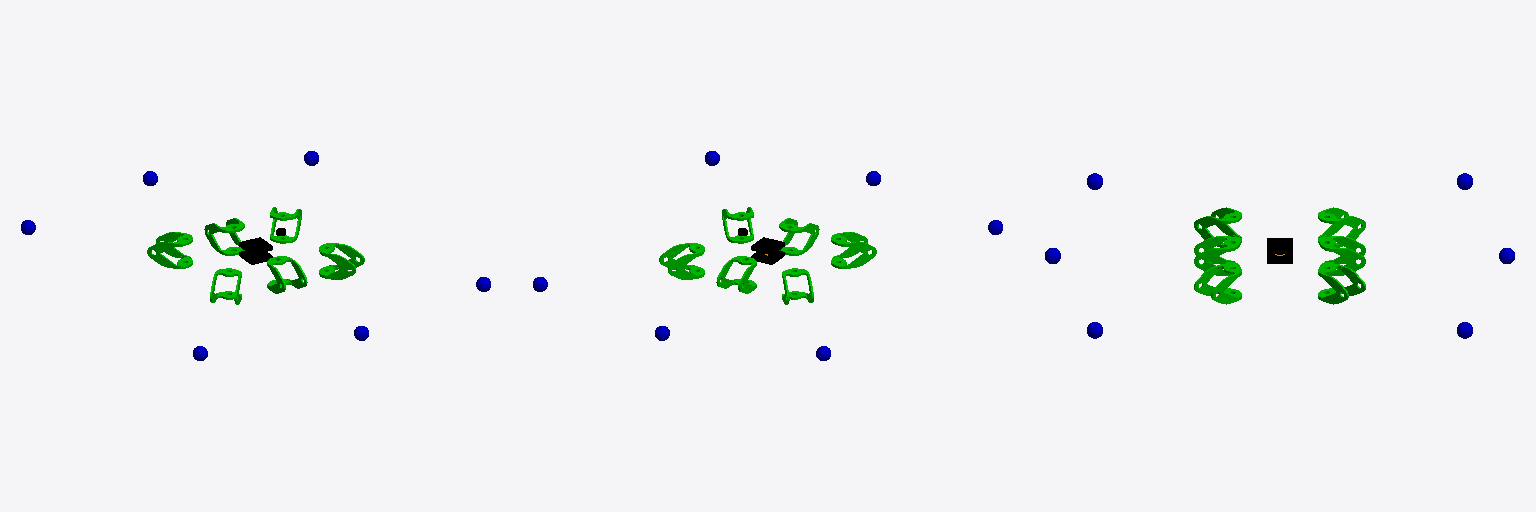
--- What the picture shows (computed from the rendered views, not written in the file) ---
The picture shows the robot from 3 angles, left to right: view 1: azimuth 30°, elevation 25°; view 2: azimuth 150°, elevation 25°; view 3: azimuth 270°, elevation 25°; orthographic projection.
Model corin with 29 links and 28 joints (18 revolute, 10 fixed), rooted at base_link, posed every joint at zero.
Visible links, largest first — view 1: lr_hipassembly, rf_hipassembly, rm_hipassembly, lm_hipassembly, rr_hipassembly, lf_hipassembly; view 2: lf_hipassembly, rr_hipassembly, lm_hipassembly, rm_hipassembly, lr_hipassembly, rf_hipassembly; view 3: lf_hipassembly, rf_hipassembly, lm_hipassembly, rm_hipassembly, lr_hipassembly, rr_hipassembly.
Boxes of the visible links, box(x1,y1,x2,y2) form: lr_hipassembly: box(147, 232, 192, 268); rf_hipassembly: box(319, 243, 364, 279); rm_hipassembly: box(267, 256, 307, 293); lm_hipassembly: box(204, 218, 244, 255); rr_hipassembly: box(210, 268, 241, 304); lf_hipassembly: box(270, 207, 301, 243); lf_hipassembly: box(659, 243, 704, 279); rr_hipassembly: box(831, 232, 876, 268); lm_hipassembly: box(716, 256, 756, 293); rm_hipassembly: box(779, 218, 819, 255); lr_hipassembly: box(782, 268, 813, 304); rf_hipassembly: box(722, 207, 753, 243); lf_hipassembly: box(1318, 263, 1365, 304); rf_hipassembly: box(1194, 263, 1241, 304); lm_hipassembly: box(1320, 236, 1365, 275); rm_hipassembly: box(1194, 236, 1239, 275); lr_hipassembly: box(1318, 207, 1365, 247); rr_hipassembly: box(1194, 207, 1241, 247).
Bounding box of the posed robot: 0.7041 × 0.9 × 0.0735 m (x, y, z).
6 mesh visuals loaded from 4 distinct referenced files (1 binary STL); not drawn: 13 (reference not matched to a file when rendering).

robot.urdf — corin:
<?xml version="1.0" ?>
<!-- =================================================================================== -->
<!-- |    This document was autogenerated by xacro from mCorin_model.urdf.xacro        | -->
<!-- |    EDITING THIS FILE BY HAND IS NOT RECOMMENDED                                 | -->
<!-- =================================================================================== -->
<robot name="corin" xmlns:xacro="http://www.ros.org/wiki/xacro">
  <!-- 160.5 -->
  <!-- Rectangular box: m*(a^2 + b^2)/12 -->
  <material name="black">
    <color rgba="0.0 0.0 0.0 1.0"/>
  </material>
  <material name="blue">
    <color rgba="0.0 0.0 0.8 1.0"/>
  </material>
  <material name="brown">
    <color rgba="0.870588235294 0.811764705882 0.764705882353 1.0"/>
  </material>
  <material name="colli">
    <color rgba="1.0 0.423529411765 0.0392156862745 0.7"/>
  </material>
  <material name="green">
    <color rgba="0.0 0.8 0.0 1.0"/>
  </material>
  <material name="grey">
    <color rgba="0.2 0.2 0.2 1.0"/>
  </material>
  <material name="grey1">
    <color rgba="0.878431372549 0.878431372549 0.878431372549 1.0"/>
  </material>
  <material name="orange">
    <color rgba="1.0 0.423529411765 0.0392156862745 1.0"/>
  </material>
  <material name="red">
    <color rgba="0.8 0.0 0.0 1.0"/>
  </material>
  <material name="transparent">
    <color rgba="0 0 0 0"/>
  </material>
  <material name="turquoise">
    <color rgba="0 0.807843137255 0.819607843137 1.0"/>
  </material>
  <material name="white">
    <color rgba="1.0 1.0 1.0 1.0"/>
  </material>
  <material name="yellow">
    <color rgba="1 1 0 1"/>
  </material>
  <!-- ================================ Trunk ================================ -->
  <!-- #############  Laser Sensor  ############# -->
  <!-- Noise parameters based on published spec for Hokuyo laser achieving "+-30mm" accuracy at range < 10m. -->
  <!-- A mean of 0.0m and stddev of 0.01m will put 99.7% of samples within 0.03m of the true reading. -->
  <gazebo>
    <plugin filename="libgazebo_ros_control.so" name="gazebo_ros_control">
      <robotNamespace>/corin</robotNamespace>
    </plugin>
    <plugin filename="libgazebo_ros_p3d.so" name="gazebo_ros_p3d">
      <robotNamespace>/corin</robotNamespace>
      <bodyName>trunk</bodyName>
      <topicName>ground_truth</topicName>
      <frameName>world</frameName>
      <xyzOffsets>0 0 0</xyzOffsets>
      <rpyOffsets>0 0 0</rpyOffsets>
      <gaussianNoise>0</gaussianNoise>
      <alwaysOn>true</alwaysOn>
      <updateRate>250.0</updateRate>
    </plugin>
  </gazebo>
  <!-- Now we can start using the macros included above to define the mcorin -->
  <!-- The first use of a macro. This one was defined in trunk.urdf.xacro above.
A macro like this will expand to a set of link and joint definitions, and to additional
Gazebo-related extensions (sensor plugins, etc). The macro takes an argument, name,
that equals "base", and uses it to generate names for its component links and joints
(e.g., base_link). The included origin block is also an argument to the macro. By convention,
the origin block defines where the component is w.r.t its parent (in this case the parent
is the world frame). For more, see http://www.ros.org/wiki/xacro -->
  <!-- Floating-base Joint -->
  <joint name="floating_base" type="fixed">
    <axis xyz="0 0 1"/>
    <!-- origin remains zero as body_dummy same dimensions as body -->
    <origin rpy="0 0 0" xyz="0.0 0.0 0.0"/>
    <parent link="base_link"/>
    <child link="trunk"/>
  </joint>
  <!-- Floating Link  -->
  <link name="base_link">
    <visual>
      <geometry>
        <cylinder length="0.01" radius="0.01"/>
      </geometry>
    </visual>
  </link>
  <!-- Trunk link -->
  <link name="trunk">
    <inertial>
      <origin xyz="0.0 0.0 0.0"/>
      <mass value="1.58"/>
      <inertia ixx="0.00491116666667" ixy="0.0" ixz="0.0" iyy="0.00761033333333" iyz="0.0" izz="0.0112311666667"/>
    </inertial>
    <visual>
      <geometry>
        <mesh filename="package://mcorin_description/meshes/Body.STL" scale="1 1 1"/>
        <!-- <box size= "${trunk_x} ${trunk_y} ${trunk_z}"/> -->
      </geometry>
      <material name="orange"/>
    </visual>
    <collision>
      <geometry>
        <mesh filename="package://mcorin_description/meshes/Body_collision.STL" scale="1 1 1"/>
        <!-- <box size= "${trunk_x-0.02} ${3.8/5*trunk_y} ${trunk_z}"/> -->
      </geometry>
      <material name="colli"/>
    </collision>
  </link>
  <gazebo reference="trunk">
    <mu1>1.5</mu1>
    <mu2>1.5</mu2>
    <material>Gazebo/DarkGrey</material>
  </gazebo>
  <!-- Joints -->
  <!-- Coxa joint -->
  <joint name="lf_q1_joint" type="revolute">
    <origin rpy="0 0 0.872664625997" xyz="0.115 0.09 0"/>
    <parent link="trunk"/>
    <child link="lf_hipassembly"/>
    <axis xyz="0 0 1"/>
    <!-- overwrite joint limits for middle legs-->
    <limit effort="2.85" lower="-1.0" upper="1.0" velocity="5.23"/>
    <dynamics damping="0.15" friction="0"/>
    <!-- <safety_controller k_position="100" k_velocity="100"
							   soft_lower_limit="${-7*PI/18}" soft_upper_limit="${5*PI/36}" /> -->
  </joint>
  <!-- Upper leg joint -->
  <joint name="lf_q2_joint" type="revolute">
    <origin rpy="1.57079632679 0 0" xyz="0.06 0 0"/>
    <parent link="lf_hipassembly"/>
    <child link="lf_upperleg"/>
    <axis xyz="0 0 1"/>
    <limit effort="2.85" lower="-2.22" upper="2.22" velocity="5.23"/>
    <dynamics damping="0.15" friction="0"/>
    <!-- <safety_controller k_position="100" k_velocity="100"
							   soft_lower_limit="${-(1+reflect_front)*5*PI/36-(1-reflect_front)*7*PI/36}"
							   soft_upper_limit="${(1-reflect_front)*5*PI/36+(1+reflect_front)*7*PI/36}" /> -->
  </joint>
  <!-- Lower leg joint -->
  <joint name="lf_q3_joint" type="revolute">
    <origin rpy="0 0 0" xyz="0.15 0 0"/>
    <parent link="lf_upperleg"/>
    <child link="lf_lowerleg"/>
    <axis xyz="0 0 1"/>
    <limit effort="2.85" lower="-2.79" upper="2.79" velocity="5.23"/>
    <dynamics damping="0.15" friction="0"/>
    <!-- <safety_controller k_position="100" k_velocity="100"
							   soft_lower_limit="${-(1+reflect_front)*7*PI/18+(1-reflect_front)*PI/18}"
							   soft_upper_limit="${(1-reflect_front)*7*PI/18-(1+reflect_front)*PI/18}" /> -->
  </joint>
  <!-- Foot joint -->
  <joint name="lf_foot_joint" type="fixed">
    <origin rpy="0 0 0" xyz="0.134 0 0"/>
    <parent link="lf_lowerleg"/>
    <child link="lf_foot"/>
  </joint>
  <!-- Links -->
  <!-- Hip assembly link -->
  <link name="lf_hipassembly">
    <visual>
      <origin rpy="0 0 0" xyz="0 0 0"/>
      <geometry>
        <mesh filename="package://mcorin_description/meshes/Coxa.STL" scale="1 1 1"/>
      </geometry>
      <material name="green"/>
    </visual>
    <collision>
      <origin rpy="0 0 0" xyz="0 0 0"/>
      <geometry>
        <mesh filename="package://mcorin_description/meshes/Coxa_collision.STL" scale="1 1 1"/>
      </geometry>
      <material name="orange"/>
    </collision>
    <inertial>
      <origin xyz="0.02471 0 0"/>
      <mass value="0.0406"/>
      <inertia ixx="3.8e-05" ixy="0.0" ixz="0.0" iyy="3.8e-05" iyz="0.0" izz="4e-05"/>
    </inertial>
  </link>
  <!-- Upper leg link -->
  <link name="lf_upperleg">
    <visual>
      <geometry>
        <mesh filename="package://mcorin_description/meshes/Femur.STL" scale="1 1 1"/>
      </geometry>
      <origin rpy="0 0 0" xyz="0 0 0"/>
      <material name="blue"/>
    </visual>
    <collision>
      <geometry>
        <box size="0.15 0.04 0.04"/>
      </geometry>
      <origin rpy="0 0 0" xyz="0.075 0 0"/>
      <material name="colli"/>
    </collision>
    <inertial>
      <mass value="0.35"/>
      <inertia ixx="1.4e-05" ixy="0" ixz="0" iyy="4.7e-05" iyz="0" izz="5.1e-05"/>
      <origin xyz="0.075 0 0"/>
    </inertial>
  </link>
  <!-- Lower leg link -->
  <link name="lf_lowerleg">
    <visual>
      <geometry>
        <mesh filename="package://mcorin_description/meshes/Tibia.STL" scale="1 1 1"/>
      </geometry>
      <origin rpy="1.57079632679 0 0" xyz="0 0 0"/>
      <material name="yellow"/>
    </visual>
    <collision>
      <geometry>
        <mesh filename="package://mcorin_description/meshes/Tibia_collision.STL" scale="1 1 1"/>
        <!-- <box size= "${tibia_cl} ${tibia_d} ${tibia_w}"/> -->
      </geometry>
      <origin rpy="1.57079632679 0 0" xyz="0.0 0 0"/>
      <material name="colli"/>
    </collision>
    <inertial>
      <mass value="0.076"/>
      <inertia ixx="2.5e-05" ixy="0" ixz="0" iyy="0.000105" iyz="0" izz="0.000117"/>
      <origin xyz="0.0887 0 0"/>
    </inertial>
  </link>
  <!-- Foot link -->
  <link name="lf_foot">
    <visual>
      <geometry>
        <sphere radius="0.016"/>
      </geometry>
      <origin rpy="0 0 0" xyz="0 0 0"/>
      <material name="blue"/>
    </visual>
    <collision>
      <geometry>
        <sphere radius="0.016"/>
      </geometry>
      <origin rpy="0 0 0" xyz="0 0 0"/>
      <material name="colli"/>
    </collision>
    <inertial>
      <mass value="0.04"/>
      <inertia ixx="4e-06" ixy="0" ixz="0" iyy="4e-06" iyz="0" izz="4e-06"/>
      <origin xyz="0 0 0"/>
    </inertial>
  </link>
  <!-- Hip assembly -->
  <transmission name="lf_q1_trans">
    <type>transmission_interface/SimpleTransmission</type>
    <joint name="lf_q1_joint">
      <hardwareInterface>EffortJointInterface</hardwareInterface>
    </joint>
    <actuator name="lf_q1_motor">
      <hardwareInterface>EffortJointInterface</hardwareInterface>
      <mechanicalReduction>200</mechanicalReduction>
    </actuator>
  </transmission>
  <!-- Upper leg -->
  <transmission name="lf_q2_trans">
    <type>transmission_interface/SimpleTransmission</type>
    <joint name="lf_q2_joint">
      <hardwareInterface>EffortJointInterface</hardwareInterface>
    </joint>
    <actuator name="lf_q2_motor">
      <hardwareInterface>EffortJointInterface</hardwareInterface>
      <mechanicalReduction>200</mechanicalReduction>
    </actuator>
  </transmission>
  <!-- Lower leg -->
  <transmission name="lf_q3_trans">
    <type>transmission_interface/SimpleTransmission</type>
    <joint name="lf_q3_joint">
      <hardwareInterface>EffortJointInterface</hardwareInterface>
    </joint>
    <actuator name="lf_q3_motor">
      <hardwareInterface>EffortJointInterface</hardwareInterface>
      <mechanicalReduction>200</mechanicalReduction>
    </actuator>
  </transmission>
  <gazebo reference="lf_q1_joint">
    <provideFeedback>true</provideFeedback>
  </gazebo>
  <gazebo>
    <plugin filename="libgazebo_ros_ft_sensor.so" name="lf_q1_sensor">
      <robotNamespace>/corin/internal_wrench/</robotNamespace>
      <updateRate>100.0</updateRate>
      <topicName>lf_q1_joint</topicName>
      <jointName>lf_q1_joint</jointName>
    </plugin>
  </gazebo>
  <gazebo reference="lf_q2_joint">
    <provideFeedback>true</provideFeedback>
  </gazebo>
  <gazebo>
    <plugin filename="libgazebo_ros_ft_sensor.so" name="lf_q2_sensor">
      <robotNamespace>/corin/internal_wrench/</robotNamespace>
      <updateRate>100.0</updateRate>
      <topicName>lf_q2_joint</topicName>
      <jointName>lf_q2_joint</jointName>
    </plugin>
  </gazebo>
  <gazebo reference="lf_q3_joint">
    <provideFeedback>true</provideFeedback>
  </gazebo>
  <gazebo>
    <plugin filename="libgazebo_ros_ft_sensor.so" name="lf_q3_sensor">
      <robotNamespace>/corin/internal_wrench/</robotNamespace>
      <updateRate>100.0</updateRate>
      <topicName>lf_q3_joint</topicName>
      <jointName>lf_q3_joint</jointName>
    </plugin>
  </gazebo>
  <gazebo reference="lf_hipassembly">
    <kp>1000000.0</kp>
    <kd>100.0</kd>
    <mu1>1.5</mu1>
    <mu2>1.5</mu2>
    <!-- <fdir1>1 0 0</fdir1> -->
    <maxVel>0.001</maxVel>
    <minDepth>0.00</minDepth>
    <material>Gazebo/White</material>
  </gazebo>
  <gazebo reference="lf_upperleg">
    <kp>1000000.0</kp>
    <kd>100.0</kd>
    <mu1>1.5</mu1>
    <mu2>1.5</mu2>
    <!-- <fdir1>1 0 0</fdir1> -->
    <maxVel>0.001</maxVel>
    <minDepth>0.00</minDepth>
    <material>Gazebo/DarkGrey</material>
  </gazebo>
  <gazebo reference="lf_lowerleg">
    <kp>1000000.0</kp>
    <kd>100.0</kd>
    <mu1>1.5</mu1>
    <mu2>1.5</mu2>
    <!-- <fdir1>1 0 0</fdir1> -->
    <maxVel>0.001</maxVel>
    <minDepth>0.00</minDepth>
    <material>Gazebo/White</material>
  </gazebo>
  <gazebo reference="lf_foot">
    <kp>1000000.0</kp>
    <kd>100.0</kd>
    <mu1>1.5</mu1>
    <mu2>1.5</mu2>
    <!-- <fdir1>1 0 0</fdir1> -->
    <maxVel>0.001</maxVel>
    <minDepth>0.00</minDepth>
    <material>Gazebo/Black</material>
  </gazebo>
  <gazebo reference="lf_foot">
    <!-- contact sensor -->
    <sensor name="foot_contact" type="contact">
      <update_rate>100.0</update_rate>
      <always_on>1</always_on>
      <contact>
        <collision>lf_lowerleg_fixed_joint_lump__lf_foot_collision_1</collision>
        <topic>/lf_foot_contact</topic>
      </contact>
      <plugin filename="libgazebo_ros_bumper.so" name="fixed_jaw_bumper">
        <bumperTopicName>/corin/foot_wrench/lf</bumperTopicName>
        <frameName>lf_foot</frameName>
      </plugin>
    </sensor>
  </gazebo>
  <!-- Joints -->
  <!-- Coxa joint -->
  <joint name="lm_q1_joint" type="revolute">
    <origin rpy="0 0 1.57079632679" xyz="0 0.09 0"/>
    <parent link="trunk"/>
    <child link="lm_hipassembly"/>
    <axis xyz="0 0 1"/>
    <!-- overwrite joint limits for middle legs-->
    <limit effort="2.85" lower="-0.84" upper="0.84" velocity="5.23"/>
    <dynamics damping="0.15" friction="0"/>
    <!-- <safety_controller k_position="100" k_velocity="100"
							   soft_lower_limit="${-7*PI/18}" soft_upper_limit="${5*PI/36}" /> -->
  </joint>
  <!-- Upper leg joint -->
  <joint name="lm_q2_joint" type="revolute">
    <origin rpy="1.57079632679 0 0" xyz="0.06 0 0"/>
    <parent link="lm_hipassembly"/>
    <child link="lm_upperleg"/>
    <axis xyz="0 0 1"/>
    <limit effort="2.85" lower="-2.22" upper="2.22" velocity="5.23"/>
    <dynamics damping="0.15" friction="0"/>
    <!-- <safety_controller k_position="100" k_velocity="100"
							   soft_lower_limit="${-(1+reflect_front)*5*PI/36-(1-reflect_front)*7*PI/36}"
							   soft_upper_limit="${(1-reflect_front)*5*PI/36+(1+reflect_front)*7*PI/36}" /> -->
  </joint>
  <!-- Lower leg joint -->
  <joint name="lm_q3_joint" type="revolute">
    <origin rpy="0 0 0" xyz="0.15 0 0"/>
    <parent link="lm_upperleg"/>
    <child link="lm_lowerleg"/>
    <axis xyz="0 0 1"/>
    <limit effort="2.85" lower="-2.79" upper="2.79" velocity="5.23"/>
    <dynamics damping="0.15" friction="0"/>
    <!-- <safety_controller k_position="100" k_velocity="100"
							   soft_lower_limit="${-(1+reflect_front)*7*PI/18+(1-reflect_front)*PI/18}"
							   soft_upper_limit="${(1-reflect_front)*7*PI/18-(1+reflect_front)*PI/18}" /> -->
  </joint>
  <!-- Foot joint -->
  <joint name="lm_foot_joint" type="fixed">
    <origin rpy="0 0 0" xyz="0.134 0 0"/>
    <parent link="lm_lowerleg"/>
    <child link="lm_foot"/>
  </joint>
  <!-- Links -->
  <!-- Hip assembly link -->
  <link name="lm_hipassembly">
    <visual>
      <origin rpy="0 0 0" xyz="0 0 0"/>
      <geometry>
        <mesh filename="package://mcorin_description/meshes/Coxa.STL" scale="1 1 1"/>
      </geometry>
      <material name="green"/>
    </visual>
    <collision>
      <origin rpy="0 0 0" xyz="0 0 0"/>
      <geometry>
        <mesh filename="package://mcorin_description/meshes/Coxa_collision.STL" scale="1 1 1"/>
      </geometry>
      <material name="orange"/>
    </collision>
    <inertial>
      <origin xyz="0.02471 0 0"/>
      <mass value="0.0406"/>
      <inertia ixx="3.8e-05" ixy="0.0" ixz="0.0" iyy="3.8e-05" iyz="0.0" izz="4e-05"/>
    </inertial>
  </link>
  <!-- Upper leg link -->
  <link name="lm_upperleg">
    <visual>
      <geometry>
        <mesh filename="package://mcorin_description/meshes/Femur.STL" scale="1 1 1"/>
      </geometry>
      <origin rpy="0 0 0" xyz="0 0 0"/>
      <material name="blue"/>
    </visual>
    <collision>
      <geometry>
        <box size="0.15 0.04 0.04"/>
      </geometry>
      <origin rpy="0 0 0" xyz="0.075 0 0"/>
      <material name="colli"/>
    </collision>
    <inertial>
      <mass value="0.35"/>
      <inertia ixx="1.4e-05" ixy="0" ixz="0" iyy="4.7e-05" iyz="0" izz="5.1e-05"/>
      <origin xyz="0.075 0 0"/>
    </inertial>
  </link>
  <!-- Lower leg link -->
  <link name="lm_lowerleg">
    <visual>
      <geometry>
        <mesh filename="package://mcorin_description/meshes/Tibia.STL" scale="1 1 1"/>
      </geometry>
      <origin rpy="1.57079632679 0 0" xyz="0 0 0"/>
      <material name="yellow"/>
    </visual>
    <collision>
      <geometry>
        <mesh filename="package://mcorin_description/meshes/Tibia_collision.STL" scale="1 1 1"/>
        <!-- <box size= "${tibia_cl} ${tibia_d} ${tibia_w}"/> -->
      </geometry>
      <origin rpy="1.57079632679 0 0" xyz="0.0 0 0"/>
      <material name="colli"/>
    </collision>
    <inertial>
      <mass value="0.076"/>
      <inertia ixx="2.5e-05" ixy="0" ixz="0" iyy="0.000105" iyz="0" izz="0.000117"/>
      <origin xyz="0.0887 0 0"/>
    </inertial>
  </link>
  <!-- Foot link -->
  <link name="lm_foot">
    <visual>
      <geometry>
        <sphere radius="0.016"/>
      </geometry>
      <origin rpy="0 0 0" xyz="0 0 0"/>
      <material name="blue"/>
    </visual>
    <collision>
      <geometry>
        <sphere radius="0.016"/>
      </geometry>
      <origin rpy="0 0 0" xyz="0 0 0"/>
      <material name="colli"/>
    </collision>
    <inertial>
      <mass value="0.04"/>
      <inertia ixx="4e-06" ixy="0" ixz="0" iyy="4e-06" iyz="0" izz="4e-06"/>
      <origin xyz="0 0 0"/>
    </inertial>
  </link>
  <!-- Hip assembly -->
  <transmission name="lm_q1_trans">
    <type>transmission_interface/SimpleTransmission</type>
    <joint name="lm_q1_joint">
      <hardwareInterface>EffortJointInterface</hardwareInterface>
    </joint>
    <actuator name="lm_q1_motor">
      <hardwareInterface>EffortJointInterface</hardwareInterface>
      <mechanicalReduction>200</mechanicalReduction>
    </actuator>
  </transmission>
  <!-- Upper leg -->
  <transmission name="lm_q2_trans">
    <type>transmission_interface/SimpleTransmission</type>
    <joint name="lm_q2_joint">
      <hardwareInterface>EffortJointInterface</hardwareInterface>
    </joint>
    <actuator name="lm_q2_motor">
      <hardwareInterface>EffortJointInterface</hardwareInterface>
      <mechanicalReduction>200</mechanicalReduction>
    </actuator>
  </transmission>
  <!-- Lower leg -->
  <transmission name="lm_q3_trans">
    <type>transmission_interface/SimpleTransmission</type>
    <joint name="lm_q3_joint">
      <hardwareInterface>EffortJointInterface</hardwareInterface>
    </joint>
    <actuator name="lm_q3_motor">
      <hardwareInterface>EffortJointInterface</hardwareInterface>
      <mechanicalReduction>200</mechanicalReduction>
    </actuator>
  </transmission>
  <gazebo reference="lm_q1_joint">
    <provideFeedback>true</provideFeedback>
  </gazebo>
  <gazebo reference="lm_q2_joint">
    <provideFeedback>true</provideFeedback>
  </gazebo>
  <gazebo reference="lm_q3_joint">
    <provideFeedback>true</provideFeedback>
  </gazebo>
  <gazebo reference="lm_hipassembly">
    <kp>1000000.0</kp>
    <kd>100.0</kd>
    <mu1>1.5</mu1>
    <mu2>1.5</mu2>
    <!-- <fdir1>1 0 0</fdir1> -->
    <maxVel>0.001</maxVel>
    <minDepth>0.00</minDepth>
    <material>Gazebo/White</material>
  </gazebo>
  <gazebo reference="lm_upperleg">
    <kp>1000000.0</kp>
    <kd>100.0</kd>
    <mu1>1.5</mu1>
    <mu2>1.5</mu2>
    <!-- <fdir1>1 0 0</fdir1> -->
    <maxVel>0.001</maxVel>
    <minDepth>0.00</minDepth>
    <material>Gazebo/DarkGrey</material>
  </gazebo>
  <gazebo reference="lm_lowerleg">
    <kp>1000000.0</kp>
    <kd>100.0</kd>
    <mu1>1.5</mu1>
    <mu2>1.5</mu2>
    <!-- <fdir1>1 0 0</fdir1> -->
    <maxVel>0.001</maxVel>
    <minDepth>0.00</minDepth>
    <material>Gazebo/White</material>
  </gazebo>
  <gazebo reference="lm_foot">
    <kp>1000000.0</kp>
    <kd>100.0</kd>
    <mu1>1.5</mu1>
    <mu2>1.5</mu2>
    <!-- <fdir1>1 0 0</fdir1> -->
    <maxVel>0.001</maxVel>
    <minDepth>0.00</minDepth>
    <material>Gazebo/Black</material>
  </gazebo>
  <gazebo reference="lm_foot">
    <!-- contact sensor -->
    <sensor name="foot_contact" type="contact">
      <update_rate>100.0</update_rate>
      <always_on>1</always_on>
      <contact>
        <collision>lm_lowerleg_fixed_joint_lump__lm_foot_collision_1</collision>
        <topic>/lm_foot_contact</topic>
      </contact>
      <plugin filename="libgazebo_ros_bumper.so" name="fixed_jaw_bumper">
        <bumperTopicName>/corin/foot_wrench/lm</bumperTopicName>
        <frameName>lm_foot</frameName>
      </plugin>
    </sensor>
  </gazebo>
  <!-- Joints -->
  <!-- Coxa joint -->
  <joint name="lr_q1_joint" type="revolute">
    <origin rpy="0 0 2.26892802759" xyz="-0.115 0.09 0"/>
    <parent link="trunk"/>
    <child link="lr_hipassembly"/>
    <axis xyz="0 0 1"/>
    <!-- overwrite joint limits for middle legs-->
    <limit effort="2.85" lower="-1.0" upper="1.0" velocity="5.23"/>
    <dynamics damping="0.15" friction="0"/>
    <!-- <safety_controller k_position="100" k_velocity="100"
							   soft_lower_limit="${-7*PI/18}" soft_upper_limit="${5*PI/36}" /> -->
  </joint>
  <!-- Upper leg joint -->
  <joint name="lr_q2_joint" type="revolute">
    <origin rpy="1.57079632679 0 0" xyz="0.06 0 0"/>
    <parent link="lr_hipassembly"/>
    <child link="lr_upperleg"/>
    <axis xyz="0 0 1"/>
    <limit effort="2.85" lower="-2.22" upper="2.22" velocity="5.23"/>
    <dynamics damping="0.15" friction="0"/>
    <!-- <safety_controller k_position="100" k_velocity="100"
							   soft_lower_limit="${-(1+reflect_front)*5*PI/36-(1-reflect_front)*7*PI/36}"
							   soft_upper_limit="${(1-reflect_front)*5*PI/36+(1+reflect_front)*7*PI/36}" /> -->
  </joint>
  <!-- Lower leg joint -->
  <joint name="lr_q3_joint" type="revolute">
    <origin rpy="0 0 0" xyz="0.15 0 0"/>
    <parent link="lr_upperleg"/>
    <child link="lr_lowerleg"/>
    <axis xyz="0 0 1"/>
    <limit effort="2.85" lower="-2.79" upper="2.79" velocity="5.23"/>
    <dynamics damping="0.15" friction="0"/>
    <!-- <safety_controller k_position="100" k_velocity="100"
							   soft_lower_limit="${-(1+reflect_front)*7*PI/18+(1-reflect_front)*PI/18}"
							   soft_upper_limit="${(1-reflect_front)*7*PI/18-(1+reflect_front)*PI/18}" /> -->
  </joint>
  <!-- Foot joint -->
  <joint name="lr_foot_joint" type="fixed">
    <origin rpy="0 0 0" xyz="0.134 0 0"/>
    <parent link="lr_lowerleg"/>
    <child link="lr_foot"/>
  </joint>
  <!-- Links -->
  <!-- Hip assembly link -->
  <link name="lr_hipassembly">
    <visual>
      <origin rpy="0 0 0" xyz="0 0 0"/>
      <geometry>
        <mesh filename="package://mcorin_description/meshes/Coxa.STL" scale="1 1 1"/>
      </geometry>
      <material name="green"/>
    </visual>
    <collision>
      <origin rpy="0 0 0" xyz="0 0 0"/>
      <geometry>
        <mesh filename="package://mcorin_description/meshes/Coxa_collision.STL" scale="1 1 1"/>
      </geometry>
      <material name="orange"/>
    </collision>
    <inertial>
      <origin xyz="0.02471 0 0"/>
      <mass value="0.0406"/>
      <inertia ixx="3.8e-05" ixy="0.0" ixz="0.0" iyy="3.8e-05" iyz="0.0" izz="4e-05"/>
    </inertial>
  </link>
  <!-- Upper leg link -->
  <link name="lr_upperleg">
    <visual>
      <geometry>
        <mesh filename="package://mcorin_description/meshes/Femur.STL" scale="1 1 1"/>
      </geometry>
      <origin rpy="0 0 0" xyz="0 0 0"/>
      <material name="blue"/>
    </visual>
    <collision>
      <geometry>
        <box size="0.15 0.04 0.04"/>
      </geometry>
      <origin rpy="0 0 0" xyz="0.075 0 0"/>
      <material name="colli"/>
    </collision>
    <inertial>
      <mass value="0.35"/>
      <inertia ixx="1.4e-05" ixy="0" ixz="0" iyy="4.7e-05" iyz="0" izz="5.1e-05"/>
      <origin xyz="0.075 0 0"/>
    </inertial>
  </link>
  <!-- Lower leg link -->
  <link name="lr_lowerleg">
    <visual>
      <geometry>
        <mesh filename="package://mcorin_description/meshes/Tibia.STL" scale="1 1 1"/>
      </geometry>
      <origin rpy="1.57079632679 0 0" xyz="0 0 0"/>
      <material name="yellow"/>
    </visual>
    <collision>
      <geometry>
        <mesh filename="package://mcorin_description/meshes/Tibia_collision.STL" scale="1 1 1"/>
        <!-- <box size= "${tibia_cl} ${tibia_d} ${tibia_w}"/> -->
      </geometry>
      <origin rpy="1.57079632679 0 0" xyz="0.0 0 0"/>
      <material name="colli"/>
    </collision>
    <inertial>
      <mass value="0.076"/>
      <inertia ixx="2.5e-05" ixy="0" ixz="0" iyy="0.000105" iyz="0" izz="0.000117"/>
      <origin xyz="0.0887 0 0"/>
    </inertial>
  </link>
  <!-- Foot link -->
  <link name="lr_foot">
    <visual>
      <geometry>
        <sphere radius="0.016"/>
      </geometry>
      <origin rpy="0 0 0" xyz="0 0 0"/>
      <material name="blue"/>
    </visual>
    <collision>
      <geometry>
        <sphere radius="0.016"/>
      </geometry>
      <origin rpy="0 0 0" xyz="0 0 0"/>
      <material name="colli"/>
    </collision>
    <inertial>
      <mass value="0.04"/>
      <inertia ixx="4e-06" ixy="0" ixz="0" iyy="4e-06" iyz="0" izz="4e-06"/>
      <origin xyz="0 0 0"/>
    </inertial>
  </link>
  <!-- Hip assembly -->
  <transmission name="lr_q1_trans">
    <type>transmission_interface/SimpleTransmission</type>
    <joint name="lr_q1_joint">
      <hardwareInterface>EffortJointInterface</hardwareInterface>
    </joint>
    <actuator name="lr_q1_motor">
      <hardwareInterface>EffortJointInterface</hardwareInterface>
      <mechanicalReduction>200</mechanicalReduction>
    </actuator>
  </transmission>
  <!-- Upper leg -->
  <transmission name="lr_q2_trans">
    <type>transmission_interface/SimpleTransmission</type>
    <joint name="lr_q2_joint">
      <hardwareInterface>EffortJointInterface</hardwareInterface>
    </joint>
    <actuator name="lr_q2_motor">
      <hardwareInterface>EffortJointInterface</hardwareInterface>
      <mechanicalReduction>200</mechanicalReduction>
    </actuator>
  </transmission>
  <!-- Lower leg -->
  <transmission name="lr_q3_trans">
    <type>transmission_interface/SimpleTransmission</type>
    <joint name="lr_q3_joint">
      <hardwareInterface>EffortJointInterface</hardwareInterface>
    </joint>
    <actuator name="lr_q3_motor">
      <hardwareInterface>EffortJointInterface</hardwareInterface>
      <mechanicalReduction>200</mechanicalReduction>
    </actuator>
  </transmission>
  <gazebo reference="lr_q1_joint">
    <provideFeedback>true</provideFeedback>
  </gazebo>
  <gazebo reference="lr_q2_joint">
    <provideFeedback>true</provideFeedback>
  </gazebo>
  <gazebo reference="lr_q3_joint">
    <provideFeedback>true</provideFeedback>
  </gazebo>
  <gazebo reference="lr_hipassembly">
    <kp>1000000.0</kp>
    <kd>100.0</kd>
    <mu1>1.5</mu1>
    <mu2>1.5</mu2>
    <!-- <fdir1>1 0 0</fdir1> -->
    <maxVel>0.001</maxVel>
    <minDepth>0.00</minDepth>
    <material>Gazebo/White</material>
  </gazebo>
  <gazebo reference="lr_upperleg">
    <kp>1000000.0</kp>
    <kd>100.0</kd>
    <mu1>1.5</mu1>
    <mu2>1.5</mu2>
    <!-- <fdir1>1 0 0</fdir1> -->
    <maxVel>0.001</maxVel>
    <minDepth>0.00</minDepth>
    <material>Gazebo/DarkGrey</material>
  </gazebo>
  <gazebo reference="lr_lowerleg">
    <kp>1000000.0</kp>
    <kd>100.0</kd>
    <mu1>1.5</mu1>
    <mu2>1.5</mu2>
    <!-- <fdir1>1 0 0</fdir1> -->
    <maxVel>0.001</maxVel>
    <minDepth>0.00</minDepth>
    <material>Gazebo/White</material>
  </gazebo>
  <gazebo reference="lr_foot">
    <kp>1000000.0</kp>
    <kd>100.0</kd>
    <mu1>1.5</mu1>
    <mu2>1.5</mu2>
    <!-- <fdir1>1 0 0</fdir1> -->
    <maxVel>0.001</maxVel>
    <minDepth>0.00</minDepth>
    <material>Gazebo/Black</material>
  </gazebo>
  <gazebo reference="lr_foot">
    <!-- contact sensor -->
    <sensor name="foot_contact" type="contact">
      <update_rate>100.0</update_rate>
      <always_on>1</always_on>
      <contact>
        <collision>lr_lowerleg_fixed_joint_lump__lr_foot_collision_1</collision>
        <topic>/lr_foot_contact</topic>
      </contact>
      <plugin filename="libgazebo_ros_bumper.so" name="fixed_jaw_bumper">
        <bumperTopicName>/corin/foot_wrench/lr</bumperTopicName>
        <frameName>lr_foot</frameName>
      </plugin>
    </sensor>
  </gazebo>
  <!-- Joints -->
  <!-- Coxa joint -->
  <joint name="rf_q1_joint" type="revolute">
    <origin rpy="0 0 -0.872664625997" xyz="0.115 -0.09 0"/>
    <parent link="trunk"/>
    <child link="rf_hipassembly"/>
    <axis xyz="0 0 1"/>
    <!-- overwrite joint limits for middle legs-->
    <limit effort="2.85" lower="-1.0" upper="1.0" velocity="5.23"/>
    <dynamics damping="0.15" friction="0"/>
    <!-- <safety_controller k_position="100" k_velocity="100"
							   soft_lower_limit="${-7*PI/18}" soft_upper_limit="${5*PI/36}" /> -->
  </joint>
  <!-- Upper leg joint -->
  <joint name="rf_q2_joint" type="revolute">
    <origin rpy="1.57079632679 0 0" xyz="0.06 0 0"/>
    <parent link="rf_hipassembly"/>
    <child link="rf_upperleg"/>
    <axis xyz="0 0 1"/>
    <limit effort="2.85" lower="-2.22" upper="2.22" velocity="5.23"/>
    <dynamics damping="0.15" friction="0"/>
    <!-- <safety_controller k_position="100" k_velocity="100"
							   soft_lower_limit="${-(1+reflect_front)*5*PI/36-(1-reflect_front)*7*PI/36}"
							   soft_upper_limit="${(1-reflect_front)*5*PI/36+(1+reflect_front)*7*PI/36}" /> -->
  </joint>
  <!-- Lower leg joint -->
  <joint name="rf_q3_joint" type="revolute">
    <origin rpy="0 0 0" xyz="0.15 0 0"/>
    <parent link="rf_upperleg"/>
    <child link="rf_lowerleg"/>
    <axis xyz="0 0 1"/>
    <limit effort="2.85" lower="-2.79" upper="2.79" velocity="5.23"/>
    <dynamics damping="0.15" friction="0"/>
    <!-- <safety_controller k_position="100" k_velocity="100"
							   soft_lower_limit="${-(1+reflect_front)*7*PI/18+(1-reflect_front)*PI/18}"
							   soft_upper_limit="${(1-reflect_front)*7*PI/18-(1+reflect_front)*PI/18}" /> -->
  </joint>
  <!-- Foot joint -->
  <joint name="rf_foot_joint" type="fixed">
    <origin rpy="0 0 0" xyz="0.134 0 0"/>
    <parent link="rf_lowerleg"/>
    <child link="rf_foot"/>
  </joint>
  <!-- Links -->
  <!-- Hip assembly link -->
  <link name="rf_hipassembly">
    <visual>
      <origin rpy="0 0 0" xyz="0 0 0"/>
      <geometry>
        <mesh filename="package://mcorin_description/meshes/Coxa.STL" scale="1 1 1"/>
      </geometry>
      <material name="green"/>
    </visual>
    <collision>
      <origin rpy="0 0 0" xyz="0 0 0"/>
      <geometry>
        <mesh filename="package://mcorin_description/meshes/Coxa_collision.STL" scale="1 1 1"/>
      </geometry>
      <material name="orange"/>
    </collision>
    <inertial>
      <origin xyz="0.02471 0 0"/>
      <mass value="0.0406"/>
      <inertia ixx="3.8e-05" ixy="0.0" ixz="0.0" iyy="3.8e-05" iyz="0.0" izz="4e-05"/>
    </inertial>
  </link>
  <!-- Upper leg link -->
  <link name="rf_upperleg">
    <visual>
      <geometry>
        <mesh filename="package://mcorin_description/meshes/Femur.STL" scale="1 1 1"/>
      </geometry>
      <origin rpy="0 0 0" xyz="0 0 0"/>
      <material name="blue"/>
    </visual>
    <collision>
      <geometry>
        <box size="0.15 0.04 0.04"/>
      </geometry>
      <origin rpy="0 0 0" xyz="0.075 0 0"/>
      <material name="colli"/>
    </collision>
    <inertial>
      <mass value="0.35"/>
      <inertia ixx="1.4e-05" ixy="0" ixz="0" iyy="4.7e-05" iyz="0" izz="5.1e-05"/>
      <origin xyz="0.075 0 0"/>
    </inertial>
  </link>
  <!-- Lower leg link -->
  <link name="rf_lowerleg">
    <visual>
      <geometry>
        <mesh filename="package://mcorin_description/meshes/Tibia.STL" scale="1 1 1"/>
      </geometry>
      <origin rpy="1.57079632679 0 0" xyz="0 0 0"/>
      <material name="yellow"/>
    </visual>
    <collision>
      <geometry>
        <mesh filename="package://mcorin_description/meshes/Tibia_collision.STL" scale="1 1 1"/>
        <!-- <box size= "${tibia_cl} ${tibia_d} ${tibia_w}"/> -->
      </geometry>
      <origin rpy="1.57079632679 0 0" xyz="0.0 0 0"/>
      <material name="colli"/>
    </collision>
    <inertial>
      <mass value="0.076"/>
      <inertia ixx="2.5e-05" ixy="0" ixz="0" iyy="0.000105" iyz="0" izz="0.000117"/>
      <origin xyz="0.0887 0 0"/>
    </inertial>
  </link>
  <!-- Foot link -->
  <link name="rf_foot">
    <visual>
      <geometry>
        <sphere radius="0.016"/>
      </geometry>
      <origin rpy="0 0 0" xyz="0 0 0"/>
      <material name="blue"/>
    </visual>
    <collision>
      <geometry>
        <sphere radius="0.016"/>
      </geometry>
      <origin rpy="0 0 0" xyz="0 0 0"/>
      <material name="colli"/>
    </collision>
    <inertial>
      <mass value="0.04"/>
      <inertia ixx="4e-06" ixy="0" ixz="0" iyy="4e-06" iyz="0" izz="4e-06"/>
      <origin xyz="0 0 0"/>
    </inertial>
  </link>
  <!-- Hip assembly -->
  <transmission name="rf_q1_trans">
    <type>transmission_interface/SimpleTransmission</type>
    <joint name="rf_q1_joint">
      <hardwareInterface>EffortJointInterface</hardwareInterface>
    </joint>
    <actuator name="rf_q1_motor">
      <hardwareInterface>EffortJointInterface</hardwareInterface>
      <mechanicalReduction>200</mechanicalReduction>
    </actuator>
  </transmission>
  <!-- Upper leg -->
  <transmission name="rf_q2_trans">
    <type>transmission_interface/SimpleTransmission</type>
    <joint name="rf_q2_joint">
      <hardwareInterface>EffortJointInterface</hardwareInterface>
    </joint>
    <actuator name="rf_q2_motor">
      <hardwareInterface>EffortJointInterface</hardwareInterface>
      <mechanicalReduction>200</mechanicalReduction>
    </actuator>
  </transmission>
  <!-- Lower leg -->
  <transmission name="rf_q3_trans">
    <type>transmission_interface/SimpleTransmission</type>
    <joint name="rf_q3_joint">
      <hardwareInterface>EffortJointInterface</hardwareInterface>
    </joint>
    <actuator name="rf_q3_motor">
      <hardwareInterface>EffortJointInterface</hardwareInterface>
      <mechanicalReduction>200</mechanicalReduction>
    </actuator>
  </transmission>
  <gazebo reference="rf_q1_joint">
    <provideFeedback>true</provideFeedback>
  </gazebo>
  <gazebo>
    <plugin filename="libgazebo_ros_ft_sensor.so" name="rf_q1_sensor">
      <robotNamespace>/corin/internal_wrench/</robotNamespace>
      <updateRate>100.0</updateRate>
      <topicName>rf_q1_joint</topicName>
      <jointName>rf_q1_joint</jointName>
    </plugin>
  </gazebo>
  <gazebo reference="rf_q2_joint">
    <provideFeedback>true</provideFeedback>
  </gazebo>
  <gazebo>
    <plugin filename="libgazebo_ros_ft_sensor.so" name="rf_q2_sensor">
      <robotNamespace>/corin/internal_wrench/</robotNamespace>
      <updateRate>100.0</updateRate>
      <topicName>rf_q2_joint</topicName>
      <jointName>rf_q2_joint</jointName>
    </plugin>
  </gazebo>
  <gazebo reference="rf_q3_joint">
    <provideFeedback>true</provideFeedback>
  </gazebo>
  <gazebo>
    <plugin filename="libgazebo_ros_ft_sensor.so" name="rf_q3_sensor">
      <robotNamespace>/corin/internal_wrench/</robotNamespace>
      <updateRate>100.0</updateRate>
      <topicName>rf_q3_joint</topicName>
      <jointName>rf_q3_joint</jointName>
    </plugin>
  </gazebo>
  <gazebo reference="rf_hipassembly">
    <kp>1000000.0</kp>
    <kd>100.0</kd>
    <mu1>1.5</mu1>
    <mu2>1.5</mu2>
    <!-- <fdir1>1 0 0</fdir1> -->
    <maxVel>0.001</maxVel>
    <minDepth>0.00</minDepth>
    <material>Gazebo/White</material>
  </gazebo>
  <gazebo reference="rf_upperleg">
    <kp>1000000.0</kp>
    <kd>100.0</kd>
    <mu1>1.5</mu1>
    <mu2>1.5</mu2>
    <!-- <fdir1>1 0 0</fdir1> -->
    <maxVel>0.001</maxVel>
    <minDepth>0.00</minDepth>
    <material>Gazebo/DarkGrey</material>
  </gazebo>
  <gazebo reference="rf_lowerleg">
    <kp>1000000.0</kp>
    <kd>100.0</kd>
    <mu1>1.5</mu1>
    <mu2>1.5</mu2>
    <!-- <fdir1>1 0 0</fdir1> -->
    <maxVel>0.001</maxVel>
    <minDepth>0.00</minDepth>
    <material>Gazebo/White</material>
  </gazebo>
  <gazebo reference="rf_foot">
    <kp>1000000.0</kp>
    <kd>100.0</kd>
    <mu1>1.5</mu1>
    <mu2>1.5</mu2>
    <!-- <fdir1>1 0 0</fdir1> -->
    <maxVel>0.001</maxVel>
    <minDepth>0.00</minDepth>
    <material>Gazebo/Black</material>
  </gazebo>
  <gazebo reference="rf_foot">
    <!-- contact sensor -->
    <sensor name="foot_contact" type="contact">
      <update_rate>100.0</update_rate>
      <always_on>1</always_on>
      <contact>
        <collision>rf_lowerleg_fixed_joint_lump__rf_foot_collision_1</collision>
        <topic>/rf_foot_contact</topic>
      </contact>
      <plugin filename="libgazebo_ros_bumper.so" name="fixed_jaw_bumper">
        <bumperTopicName>/corin/foot_wrench/rf</bumperTopicName>
        <frameName>rf_foot</frameName>
      </plugin>
    </sensor>
  </gazebo>
  <!-- Joints -->
  <!-- Coxa joint -->
  <joint name="rm_q1_joint" type="revolute">
    <origin rpy="0 0 -1.57079632679" xyz="0 -0.09 0"/>
    <parent link="trunk"/>
    <child link="rm_hipassembly"/>
    <axis xyz="0 0 1"/>
    <!-- overwrite joint limits for middle legs-->
    <limit effort="2.85" lower="-0.84" upper="0.84" velocity="5.23"/>
    <dynamics damping="0.15" friction="0"/>
    <!-- <safety_controller k_position="100" k_velocity="100"
							   soft_lower_limit="${-7*PI/18}" soft_upper_limit="${5*PI/36}" /> -->
  </joint>
  <!-- Upper leg joint -->
  <joint name="rm_q2_joint" type="revolute">
    <origin rpy="1.57079632679 0 0" xyz="0.06 0 0"/>
    <parent link="rm_hipassembly"/>
    <child link="rm_upperleg"/>
    <axis xyz="0 0 1"/>
    <limit effort="2.85" lower="-2.22" upper="2.22" velocity="5.23"/>
    <dynamics damping="0.15" friction="0"/>
    <!-- <safety_controller k_position="100" k_velocity="100"
							   soft_lower_limit="${-(1+reflect_front)*5*PI/36-(1-reflect_front)*7*PI/36}"
							   soft_upper_limit="${(1-reflect_front)*5*PI/36+(1+reflect_front)*7*PI/36}" /> -->
  </joint>
  <!-- Lower leg joint -->
  <joint name="rm_q3_joint" type="revolute">
    <origin rpy="0 0 0" xyz="0.15 0 0"/>
    <parent link="rm_upperleg"/>
    <child link="rm_lowerleg"/>
    <axis xyz="0 0 1"/>
    <limit effort="2.85" lower="-2.79" upper="2.79" velocity="5.23"/>
    <dynamics damping="0.15" friction="0"/>
    <!-- <safety_controller k_position="100" k_velocity="100"
							   soft_lower_limit="${-(1+reflect_front)*7*PI/18+(1-reflect_front)*PI/18}"
							   soft_upper_limit="${(1-reflect_front)*7*PI/18-(1+reflect_front)*PI/18}" /> -->
  </joint>
  <!-- Foot joint -->
  <joint name="rm_foot_joint" type="fixed">
    <origin rpy="0 0 0" xyz="0.134 0 0"/>
    <parent link="rm_lowerleg"/>
    <child link="rm_foot"/>
  </joint>
  <!-- Links -->
  <!-- Hip assembly link -->
  <link name="rm_hipassembly">
    <visual>
      <origin rpy="0 0 0" xyz="0 0 0"/>
      <geometry>
        <mesh filename="package://mcorin_description/meshes/Coxa.STL" scale="1 1 1"/>
      </geometry>
      <material name="green"/>
    </visual>
    <collision>
      <origin rpy="0 0 0" xyz="0 0 0"/>
      <geometry>
        <mesh filename="package://mcorin_description/meshes/Coxa_collision.STL" scale="1 1 1"/>
      </geometry>
      <material name="orange"/>
    </collision>
    <inertial>
      <origin xyz="0.02471 0 0"/>
      <mass value="0.0406"/>
      <inertia ixx="3.8e-05" ixy="0.0" ixz="0.0" iyy="3.8e-05" iyz="0.0" izz="4e-05"/>
    </inertial>
  </link>
  <!-- Upper leg link -->
  <link name="rm_upperleg">
    <visual>
      <geometry>
        <mesh filename="package://mcorin_description/meshes/Femur.STL" scale="1 1 1"/>
      </geometry>
      <origin rpy="0 0 0" xyz="0 0 0"/>
      <material name="blue"/>
    </visual>
    <collision>
      <geometry>
        <box size="0.15 0.04 0.04"/>
      </geometry>
      <origin rpy="0 0 0" xyz="0.075 0 0"/>
      <material name="colli"/>
    </collision>
    <inertial>
      <mass value="0.35"/>
      <inertia ixx="1.4e-05" ixy="0" ixz="0" iyy="4.7e-05" iyz="0" izz="5.1e-05"/>
      <origin xyz="0.075 0 0"/>
    </inertial>
  </link>
  <!-- Lower leg link -->
  <link name="rm_lowerleg">
    <visual>
      <geometry>
        <mesh filename="package://mcorin_description/meshes/Tibia.STL" scale="1 1 1"/>
      </geometry>
      <origin rpy="1.57079632679 0 0" xyz="0 0 0"/>
      <material name="yellow"/>
    </visual>
    <collision>
      <geometry>
        <mesh filename="package://mcorin_description/meshes/Tibia_collision.STL" scale="1 1 1"/>
        <!-- <box size= "${tibia_cl} ${tibia_d} ${tibia_w}"/> -->
      </geometry>
      <origin rpy="1.57079632679 0 0" xyz="0.0 0 0"/>
      <material name="colli"/>
    </collision>
    <inertial>
      <mass value="0.076"/>
      <inertia ixx="2.5e-05" ixy="0" ixz="0" iyy="0.000105" iyz="0" izz="0.000117"/>
      <origin xyz="0.0887 0 0"/>
    </inertial>
  </link>
  <!-- Foot link -->
  <link name="rm_foot">
    <visual>
      <geometry>
        <sphere radius="0.016"/>
      </geometry>
      <origin rpy="0 0 0" xyz="0 0 0"/>
      <material name="blue"/>
    </visual>
    <collision>
      <geometry>
        <sphere radius="0.016"/>
      </geometry>
      <origin rpy="0 0 0" xyz="0 0 0"/>
      <material name="colli"/>
    </collision>
    <inertial>
      <mass value="0.04"/>
      <inertia ixx="4e-06" ixy="0" ixz="0" iyy="4e-06" iyz="0" izz="4e-06"/>
      <origin xyz="0 0 0"/>
    </inertial>
  </link>
  <!-- Hip assembly -->
  <transmission name="rm_q1_trans">
    <type>transmission_interface/SimpleTransmission</type>
    <joint name="rm_q1_joint">
      <hardwareInterface>EffortJointInterface</hardwareInterface>
    </joint>
    <actuator name="rm_q1_motor">
      <hardwareInterface>EffortJointInterface</hardwareInterface>
      <mechanicalReduction>200</mechanicalReduction>
    </actuator>
  </transmission>
  <!-- Upper leg -->
  <transmission name="rm_q2_trans">
    <type>transmission_interface/SimpleTransmission</type>
    <joint name="rm_q2_joint">
      <hardwareInterface>EffortJointInterface</hardwareInterface>
    </joint>
    <actuator name="rm_q2_motor">
      <hardwareInterface>EffortJointInterface</hardwareInterface>
      <mechanicalReduction>200</mechanicalReduction>
    </actuator>
  </transmission>
  <!-- Lower leg -->
  <transmission name="rm_q3_trans">
    <type>transmission_interface/SimpleTransmission</type>
    <joint name="rm_q3_joint">
      <hardwareInterface>EffortJointInterface</hardwareInterface>
    </joint>
    <actuator name="rm_q3_motor">
      <hardwareInterface>EffortJointInterface</hardwareInterface>
      <mechanicalReduction>200</mechanicalReduction>
    </actuator>
  </transmission>
  <gazebo reference="rm_q1_joint">
    <provideFeedback>true</provideFeedback>
  </gazebo>
  <gazebo reference="rm_q2_joint">
    <provideFeedback>true</provideFeedback>
  </gazebo>
  <gazebo reference="rm_q3_joint">
    <provideFeedback>true</provideFeedback>
  </gazebo>
  <gazebo reference="rm_hipassembly">
    <kp>1000000.0</kp>
    <kd>100.0</kd>
    <mu1>1.5</mu1>
    <mu2>1.5</mu2>
    <!-- <fdir1>1 0 0</fdir1> -->
    <maxVel>0.001</maxVel>
    <minDepth>0.00</minDepth>
    <material>Gazebo/White</material>
  </gazebo>
  <gazebo reference="rm_upperleg">
    <kp>1000000.0</kp>
    <kd>100.0</kd>
    <mu1>1.5</mu1>
    <mu2>1.5</mu2>
    <!-- <fdir1>1 0 0</fdir1> -->
    <maxVel>0.001</maxVel>
    <minDepth>0.00</minDepth>
    <material>Gazebo/DarkGrey</material>
  </gazebo>
  <gazebo reference="rm_lowerleg">
    <kp>1000000.0</kp>
    <kd>100.0</kd>
    <mu1>1.5</mu1>
    <mu2>1.5</mu2>
    <!-- <fdir1>1 0 0</fdir1> -->
    <maxVel>0.001</maxVel>
    <minDepth>0.00</minDepth>
    <material>Gazebo/White</material>
  </gazebo>
  <gazebo reference="rm_foot">
    <kp>1000000.0</kp>
    <kd>100.0</kd>
    <mu1>1.5</mu1>
    <mu2>1.5</mu2>
    <!-- <fdir1>1 0 0</fdir1> -->
    <maxVel>0.001</maxVel>
    <minDepth>0.00</minDepth>
    <material>Gazebo/Black</material>
  </gazebo>
  <gazebo reference="rm_foot">
    <!-- contact sensor -->
    <sensor name="foot_contact" type="contact">
      <update_rate>100.0</update_rate>
      <always_on>1</always_on>
      <contact>
        <collision>rm_lowerleg_fixed_joint_lump__rm_foot_collision_1</collision>
        <topic>/rm_foot_contact</topic>
      </contact>
      <plugin filename="libgazebo_ros_bumper.so" name="fixed_jaw_bumper">
        <bumperTopicName>/corin/foot_wrench/rm</bumperTopicName>
        <frameName>rm_foot</frameName>
      </plugin>
    </sensor>
  </gazebo>
  <!-- Joints -->
  <!-- Coxa joint -->
  <joint name="rr_q1_joint" type="revolute">
    <origin rpy="0 0 -2.26892802759" xyz="-0.115 -0.09 0"/>
    <parent link="trunk"/>
    <child link="rr_hipassembly"/>
    <axis xyz="0 0 1"/>
    <!-- overwrite joint limits for middle legs-->
    <limit effort="2.85" lower="-1.0" upper="1.0" velocity="5.23"/>
    <dynamics damping="0.15" friction="0"/>
    <!-- <safety_controller k_position="100" k_velocity="100"
							   soft_lower_limit="${-7*PI/18}" soft_upper_limit="${5*PI/36}" /> -->
  </joint>
  <!-- Upper leg joint -->
  <joint name="rr_q2_joint" type="revolute">
    <origin rpy="1.57079632679 0 0" xyz="0.06 0 0"/>
    <parent link="rr_hipassembly"/>
    <child link="rr_upperleg"/>
    <axis xyz="0 0 1"/>
    <limit effort="2.85" lower="-2.22" upper="2.22" velocity="5.23"/>
    <dynamics damping="0.15" friction="0"/>
    <!-- <safety_controller k_position="100" k_velocity="100"
							   soft_lower_limit="${-(1+reflect_front)*5*PI/36-(1-reflect_front)*7*PI/36}"
							   soft_upper_limit="${(1-reflect_front)*5*PI/36+(1+reflect_front)*7*PI/36}" /> -->
  </joint>
  <!-- Lower leg joint -->
  <joint name="rr_q3_joint" type="revolute">
    <origin rpy="0 0 0" xyz="0.15 0 0"/>
    <parent link="rr_upperleg"/>
    <child link="rr_lowerleg"/>
    <axis xyz="0 0 1"/>
    <limit effort="2.85" lower="-2.79" upper="2.79" velocity="5.23"/>
    <dynamics damping="0.15" friction="0"/>
    <!-- <safety_controller k_position="100" k_velocity="100"
							   soft_lower_limit="${-(1+reflect_front)*7*PI/18+(1-reflect_front)*PI/18}"
							   soft_upper_limit="${(1-reflect_front)*7*PI/18-(1+reflect_front)*PI/18}" /> -->
  </joint>
  <!-- Foot joint -->
  <joint name="rr_foot_joint" type="fixed">
    <origin rpy="0 0 0" xyz="0.134 0 0"/>
    <parent link="rr_lowerleg"/>
    <child link="rr_foot"/>
  </joint>
  <!-- Links -->
  <!-- Hip assembly link -->
  <link name="rr_hipassembly">
    <visual>
      <origin rpy="0 0 0" xyz="0 0 0"/>
      <geometry>
        <mesh filename="package://mcorin_description/meshes/Coxa.STL" scale="1 1 1"/>
      </geometry>
      <material name="green"/>
    </visual>
    <collision>
      <origin rpy="0 0 0" xyz="0 0 0"/>
      <geometry>
        <mesh filename="package://mcorin_description/meshes/Coxa_collision.STL" scale="1 1 1"/>
      </geometry>
      <material name="orange"/>
    </collision>
    <inertial>
      <origin xyz="0.02471 0 0"/>
      <mass value="0.0406"/>
      <inertia ixx="3.8e-05" ixy="0.0" ixz="0.0" iyy="3.8e-05" iyz="0.0" izz="4e-05"/>
    </inertial>
  </link>
  <!-- Upper leg link -->
  <link name="rr_upperleg">
    <visual>
      <geometry>
        <mesh filename="package://mcorin_description/meshes/Femur.STL" scale="1 1 1"/>
      </geometry>
      <origin rpy="0 0 0" xyz="0 0 0"/>
      <material name="blue"/>
    </visual>
    <collision>
      <geometry>
        <box size="0.15 0.04 0.04"/>
      </geometry>
      <origin rpy="0 0 0" xyz="0.075 0 0"/>
      <material name="colli"/>
    </collision>
    <inertial>
      <mass value="0.35"/>
      <inertia ixx="1.4e-05" ixy="0" ixz="0" iyy="4.7e-05" iyz="0" izz="5.1e-05"/>
      <origin xyz="0.075 0 0"/>
    </inertial>
  </link>
  <!-- Lower leg link -->
  <link name="rr_lowerleg">
    <visual>
      <geometry>
        <mesh filename="package://mcorin_description/meshes/Tibia.STL" scale="1 1 1"/>
      </geometry>
      <origin rpy="1.57079632679 0 0" xyz="0 0 0"/>
      <material name="yellow"/>
    </visual>
    <collision>
      <geometry>
        <mesh filename="package://mcorin_description/meshes/Tibia_collision.STL" scale="1 1 1"/>
        <!-- <box size= "${tibia_cl} ${tibia_d} ${tibia_w}"/> -->
      </geometry>
      <origin rpy="1.57079632679 0 0" xyz="0.0 0 0"/>
      <material name="colli"/>
    </collision>
    <inertial>
      <mass value="0.076"/>
      <inertia ixx="2.5e-05" ixy="0" ixz="0" iyy="0.000105" iyz="0" izz="0.000117"/>
      <origin xyz="0.0887 0 0"/>
    </inertial>
  </link>
  <!-- Foot link -->
  <link name="rr_foot">
    <visual>
      <geometry>
        <sphere radius="0.016"/>
      </geometry>
      <origin rpy="0 0 0" xyz="0 0 0"/>
      <material name="blue"/>
    </visual>
    <collision>
      <geometry>
        <sphere radius="0.016"/>
      </geometry>
      <origin rpy="0 0 0" xyz="0 0 0"/>
      <material name="colli"/>
    </collision>
    <inertial>
      <mass value="0.04"/>
      <inertia ixx="4e-06" ixy="0" ixz="0" iyy="4e-06" iyz="0" izz="4e-06"/>
      <origin xyz="0 0 0"/>
    </inertial>
  </link>
  <!-- Hip assembly -->
  <transmission name="rr_q1_trans">
    <type>transmission_interface/SimpleTransmission</type>
    <joint name="rr_q1_joint">
      <hardwareInterface>EffortJointInterface</hardwareInterface>
    </joint>
    <actuator name="rr_q1_motor">
      <hardwareInterface>EffortJointInterface</hardwareInterface>
      <mechanicalReduction>200</mechanicalReduction>
    </actuator>
  </transmission>
  <!-- Upper leg -->
  <transmission name="rr_q2_trans">
    <type>transmission_interface/SimpleTransmission</type>
    <joint name="rr_q2_joint">
      <hardwareInterface>EffortJointInterface</hardwareInterface>
    </joint>
    <actuator name="rr_q2_motor">
      <hardwareInterface>EffortJointInterface</hardwareInterface>
      <mechanicalReduction>200</mechanicalReduction>
    </actuator>
  </transmission>
  <!-- Lower leg -->
  <transmission name="rr_q3_trans">
    <type>transmission_interface/SimpleTransmission</type>
    <joint name="rr_q3_joint">
      <hardwareInterface>EffortJointInterface</hardwareInterface>
    </joint>
    <actuator name="rr_q3_motor">
      <hardwareInterface>EffortJointInterface</hardwareInterface>
      <mechanicalReduction>200</mechanicalReduction>
    </actuator>
  </transmission>
  <gazebo reference="rr_q1_joint">
    <provideFeedback>true</provideFeedback>
  </gazebo>
  <gazebo reference="rr_q2_joint">
    <provideFeedback>true</provideFeedback>
  </gazebo>
  <gazebo reference="rr_q3_joint">
    <provideFeedback>true</provideFeedback>
  </gazebo>
  <gazebo reference="rr_hipassembly">
    <kp>1000000.0</kp>
    <kd>100.0</kd>
    <mu1>1.5</mu1>
    <mu2>1.5</mu2>
    <!-- <fdir1>1 0 0</fdir1> -->
    <maxVel>0.001</maxVel>
    <minDepth>0.00</minDepth>
    <material>Gazebo/White</material>
  </gazebo>
  <gazebo reference="rr_upperleg">
    <kp>1000000.0</kp>
    <kd>100.0</kd>
    <mu1>1.5</mu1>
    <mu2>1.5</mu2>
    <!-- <fdir1>1 0 0</fdir1> -->
    <maxVel>0.001</maxVel>
    <minDepth>0.00</minDepth>
    <material>Gazebo/DarkGrey</material>
  </gazebo>
  <gazebo reference="rr_lowerleg">
    <kp>1000000.0</kp>
    <kd>100.0</kd>
    <mu1>1.5</mu1>
    <mu2>1.5</mu2>
    <!-- <fdir1>1 0 0</fdir1> -->
    <maxVel>0.001</maxVel>
    <minDepth>0.00</minDepth>
    <material>Gazebo/White</material>
  </gazebo>
  <gazebo reference="rr_foot">
    <kp>1000000.0</kp>
    <kd>100.0</kd>
    <mu1>1.5</mu1>
    <mu2>1.5</mu2>
    <!-- <fdir1>1 0 0</fdir1> -->
    <maxVel>0.001</maxVel>
    <minDepth>0.00</minDepth>
    <material>Gazebo/Black</material>
  </gazebo>
  <gazebo reference="rr_foot">
    <!-- contact sensor -->
    <sensor name="foot_contact" type="contact">
      <update_rate>100.0</update_rate>
      <always_on>1</always_on>
      <contact>
        <collision>rr_lowerleg_fixed_joint_lump__rr_foot_collision_1</collision>
        <topic>/rr_foot_contact</topic>
      </contact>
      <plugin filename="libgazebo_ros_bumper.so" name="fixed_jaw_bumper">
        <bumperTopicName>/corin/foot_wrench/rr</bumperTopicName>
        <frameName>rr_foot</frameName>
      </plugin>
    </sensor>
  </gazebo>
  <!-- Joint -->
  <joint name="trunk_imu_joint" type="fixed">
    <origin rpy="0 0 0" xyz="0.0 0.0 0.0"/>
    <parent link="trunk"/>
    <child link="trunk_imu"/>
  </joint>
  <!-- Link -->
  <link name="trunk_imu">
    <inertial>
      <origin xyz="-0.00020  0.00010  0.00110"/>
      <mass value="0.010"/>
      <inertia ixx="0.0" ixy="0.0" ixz="0.0" iyy="0.0" iyz="0.0" izz="0.0"/>
    </inertial>
    <visual>
      <origin rpy="0 0 0" xyz="0.0 0 0.0"/>
      <geometry>
        <box size="0.05 0.05 0.01"/>
      </geometry>
      <material name="black">
        <color rgba="0 0 0 0.9"/>
      </material>
    </visual>
  </link>
  <gazebo>
    <material>Gazebo/Red</material>
    <plugin filename="libgazebo_ros_imu.so" name="imu_plugin">
      <robotNamespace>/corin/imu/</robotNamespace>
      <alwaysOn>true</alwaysOn>
      <frameName>trunk_imu</frameName>
      <bodyName>trunk_imu</bodyName>
      <topicName>middle/data</topicName>
      <serviceName>trunk/service</serviceName>
      <gaussianNoise>0.001</gaussianNoise>
      <updateRate>100</updateRate>
    </plugin>
  </gazebo>
  <!-- Joint -->
  <joint name="trunk_offset_imu_joint" type="fixed">
    <origin rpy="0 0 0" xyz="0.0 0.0 0.022"/>
    <parent link="trunk"/>
    <child link="trunk_offset_imu"/>
  </joint>
  <!-- Link -->
  <link name="trunk_offset_imu">
    <inertial>
      <origin xyz="-0.00020  0.00010  0.00110"/>
      <mass value="0.010"/>
      <inertia ixx="0.0" ixy="0.0" ixz="0.0" iyy="0.0" iyz="0.0" izz="0.0"/>
    </inertial>
    <visual>
      <origin rpy="0 0 0" xyz="0.0 0 0.0"/>
      <geometry>
        <box size="0.05 0.05 0.01"/>
      </geometry>
      <material name="black">
        <color rgba="0 0 0 0.9"/>
      </material>
    </visual>
  </link>
  <gazebo>
    <material>Gazebo/Red</material>
    <plugin filename="libgazebo_ros_imu.so" name="imu_plugin">
      <robotNamespace>/corin/imu/</robotNamespace>
      <alwaysOn>true</alwaysOn>
      <frameName>trunk_offset_imu</frameName>
      <bodyName>trunk_offset_imu</bodyName>
      <topicName>offset/data</topicName>
      <serviceName>trunk/service2</serviceName>
      <gaussianNoise>0.001</gaussianNoise>
      <updateRate>100</updateRate>
    </plugin>
  </gazebo>
  <!-- Joint -->
  <joint name="trunk_lidar_joint" type="fixed">
    <origin rpy="0 0 1.57079632679" xyz="0.06 0.0 0.04"/>
    <parent link="trunk"/>
    <child link="trunk_lidar"/>
  </joint>
  <!-- Link -->
  <link name="trunk_lidar">
    <inertial>
      <origin xyz="-0.00020  0.00010  0.00110"/>
      <mass value="0.010"/>
      <inertia ixx="0.0" ixy="0.0" ixz="0.0" iyy="0.0" iyz="0.0" izz="0.0"/>
    </inertial>
    <visual>
      <origin rpy="0 0 0" xyz="0.0 0 0.0"/>
      <geometry>
        <cylinder length="0.01" radius="0.01"/>
      </geometry>
      <material name="black">
        <color rgba="0 0 0 0.9"/>
      </material>
    </visual>
  </link>
  <gazebo reference="trunk_lidar">
    <material>Gazebo/Blue</material>
    <sensor name="head_hokuyo_sensor" type="ray">
      <pose>0 0 0 0 0 0</pose>
      <visualize>true</visualize>
      <update_rate>100</update_rate>
      <ray>
        <scan>
          <horizontal>
            <samples>5</samples>
            <resolution>1</resolution>
            <min_angle>-0.009</min_angle>
            <max_angle>0.009</max_angle>
          </horizontal>
        </scan>
        <range>
          <min>0.01</min>
          <max>1.0</max>
          <resolution>0.005</resolution>
        </range>
        <noise>
          <type>none</type>
          <mean>0.0</mean>
          <stddev>0.0</stddev>
        </noise>
      </ray>
      <plugin filename="libgazebo_ros_laser.so" name="gazebo_ros_head_hokuyo_controller">
        <robotNamespace>/corin/lidar/</robotNamespace>
        <alwaysOn>true</alwaysOn>
        <update_rate>100</update_rate>
        <topicName>lidar/data</topicName>
        <frameName>trunk</frameName>
        <bodyName>trunk</bodyName>
      </plugin>
    </sensor>
  </gazebo>
</robot>
